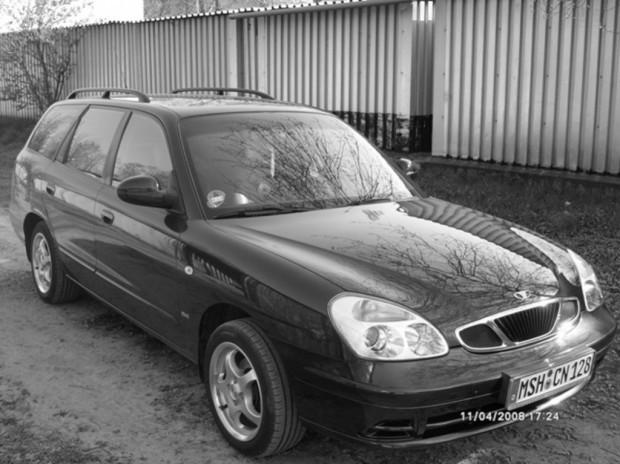car: (9, 86, 617, 464)
